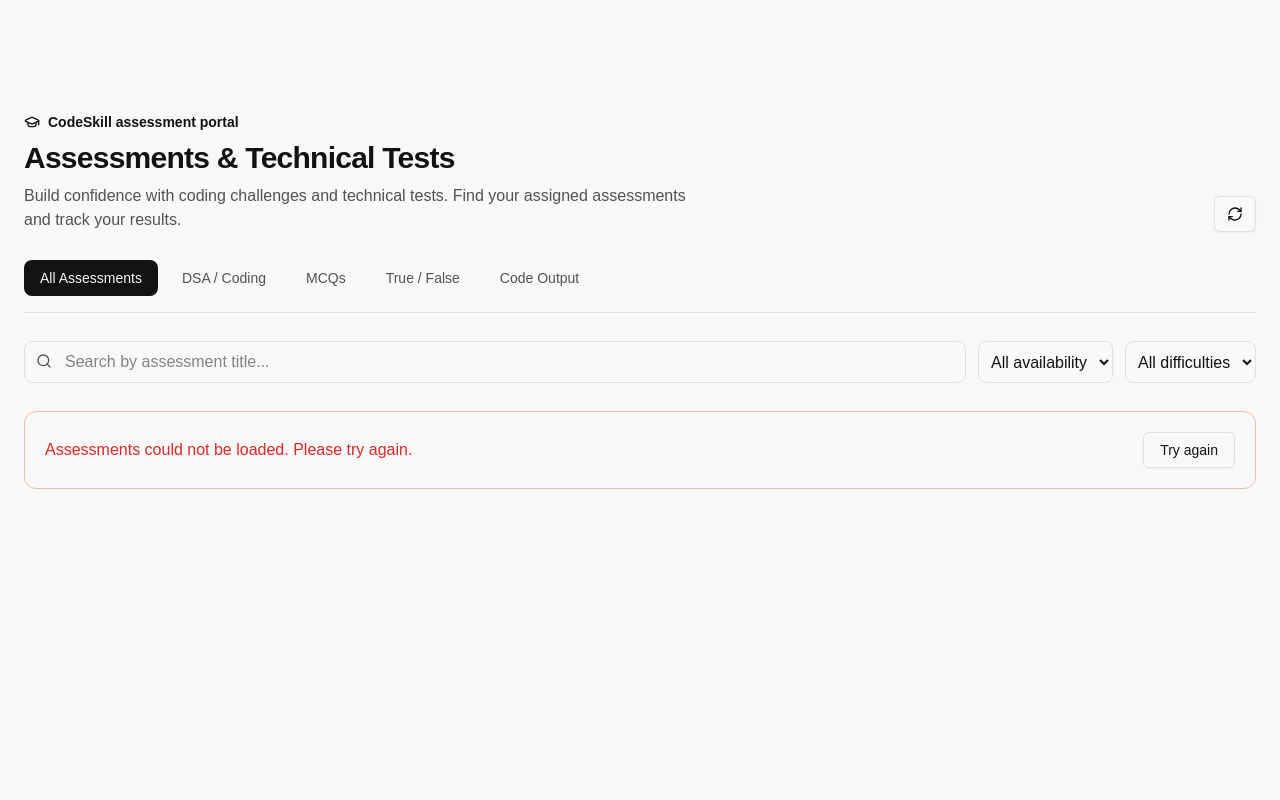
it: shows API errors and retries instead of a false empty state
The width and height of the screenshot is (1280, 800).
Expected: the message "Assessments could not be loaded. Please try again. Try again" is shown, [24, 411, 1256, 489]
Click the button "Try again".
click(1189, 450)  # box [1143, 432, 1235, 468]
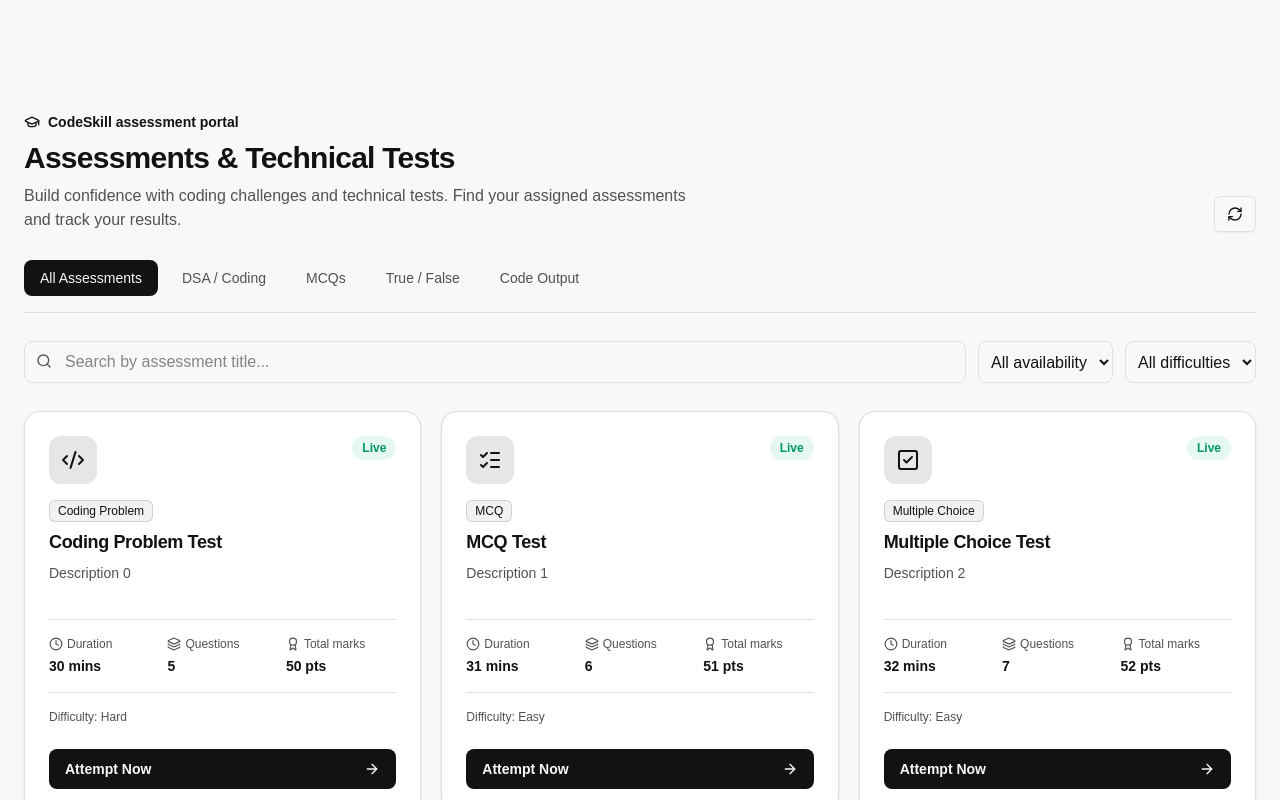
Expected: the heading "Coding Problem Test" is shown, [49, 532, 222, 552]
